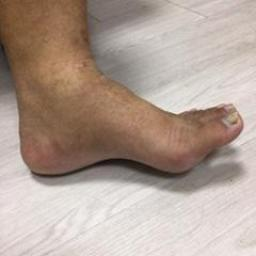Medial View -Left Foot-: (10, 57, 252, 190)
